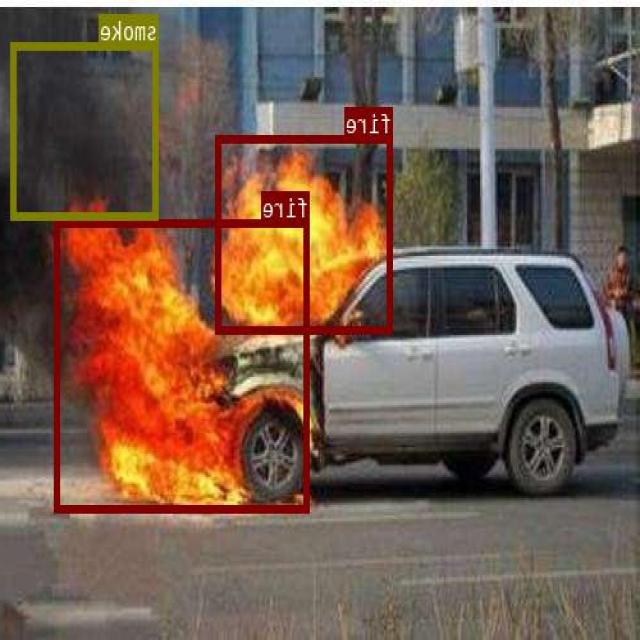fire: (55, 218, 311, 511), (217, 134, 393, 332)
smoke: (12, 41, 160, 219)
